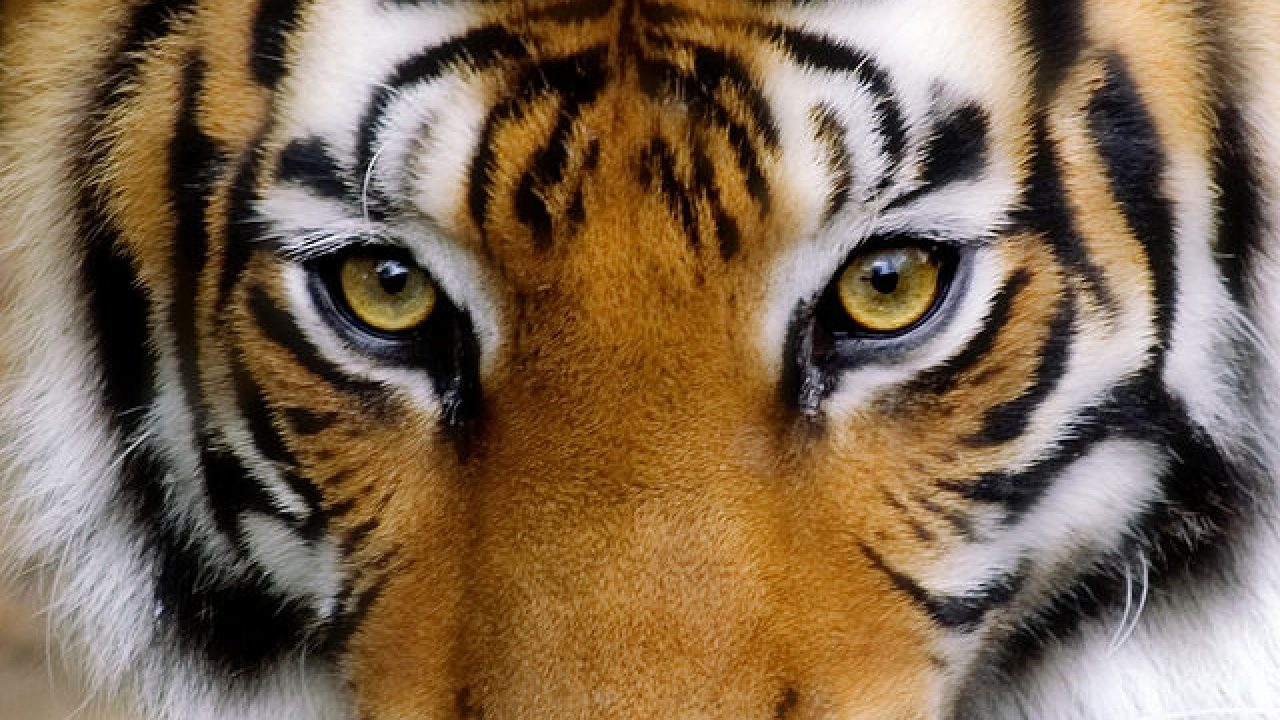Tigrew: (37, 15, 1168, 704)
